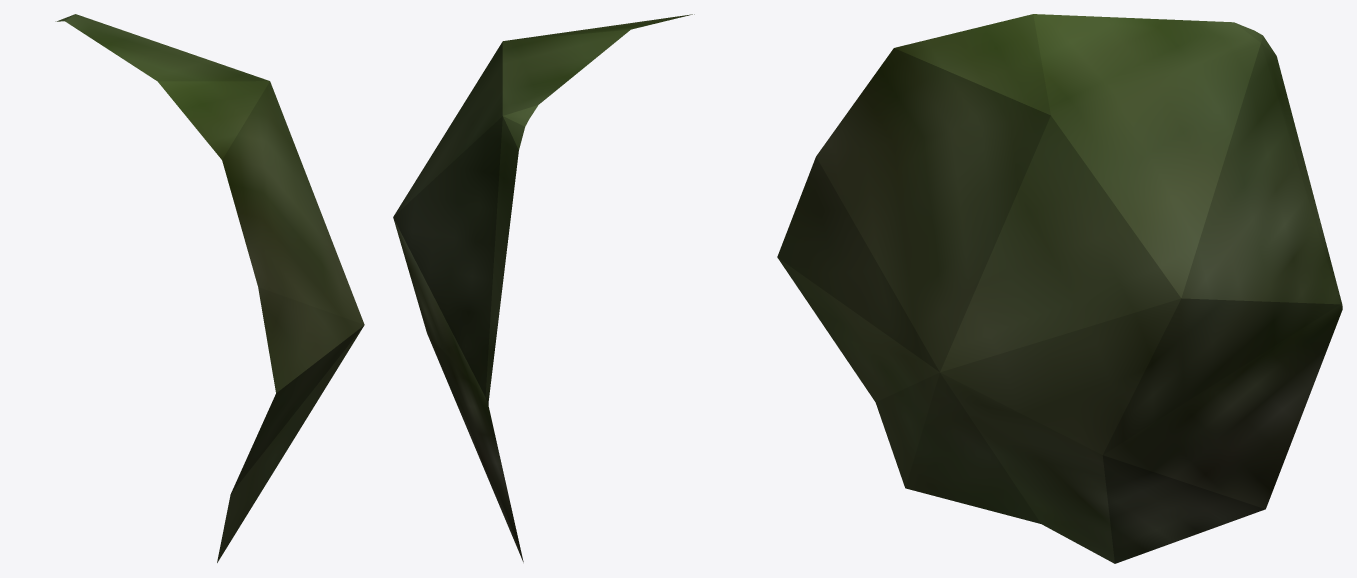
3 renders of one model, left to right at view 1: azimuth 30°, elevation 25°; view 2: azimuth 150°, elevation 25°; view 3: azimuth 270°, elevation 25°, orthographic. The views are drawn at different scales.
Size of the model in its own units: 0.0182 by 0.0512 by 0.0477.
1 material, 1 textured.
